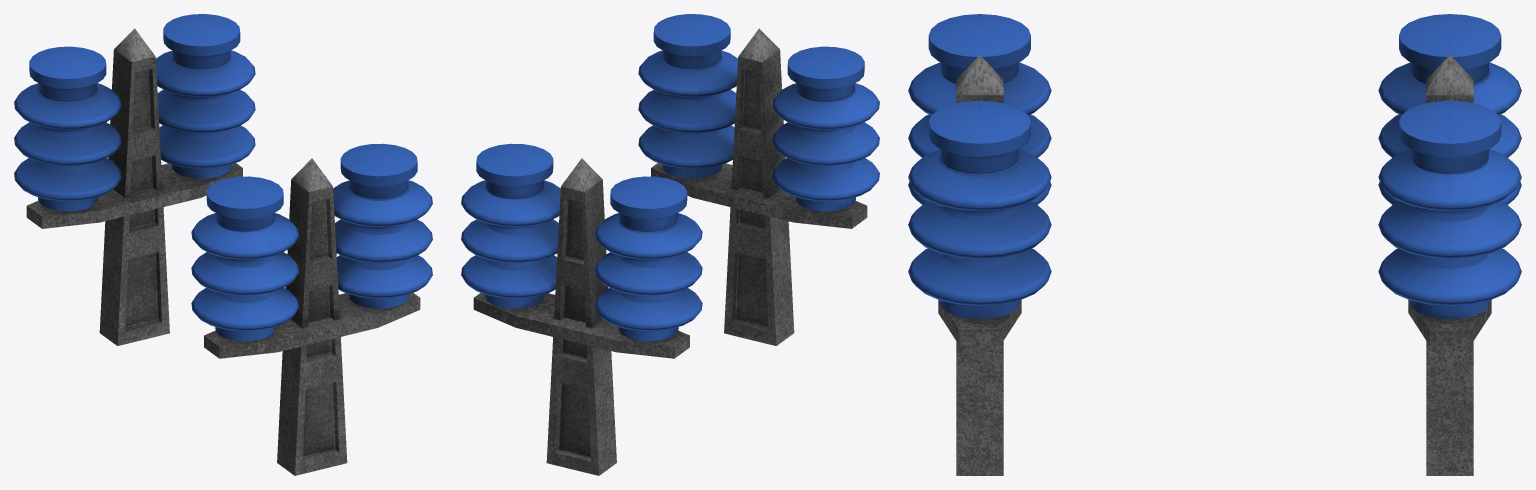
The model's file is PostesElectricos (2).fbx.
3 views of the same model, side by side, from view 1: azimuth 30°, elevation 25°; view 2: azimuth 150°, elevation 25°; view 3: azimuth 270°, elevation 25° (orthographic). The views are drawn at different scales.
Parts seen in each view (by area): view 1: poste2, poste1; view 2: poste1, poste2; view 3: poste1, poste2.
Part boxes in pixels (left/top/right/bottom): poste2: left=191, top=143, right=432, bottom=475; poste1: left=14, top=14, right=255, bottom=345; poste1: left=461, top=143, right=702, bottom=475; poste2: left=638, top=14, right=879, bottom=345; poste1: left=1378, top=14, right=1521, bottom=475; poste2: left=908, top=14, right=1051, bottom=475.
Bounding box in the file's own units: 170 × 218 × 299.
